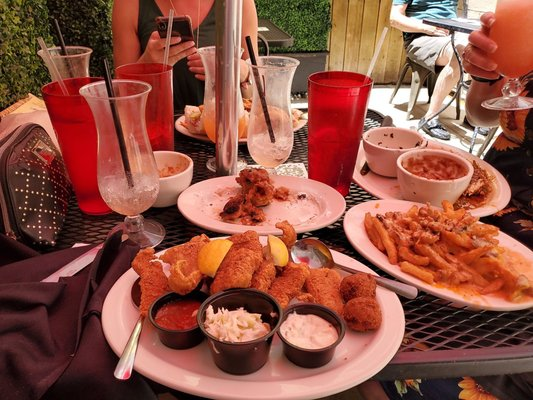pizza: (307, 70, 373, 198), (115, 61, 175, 151)
salad: (114, 260, 157, 381)
sushi: (198, 288, 281, 375), (396, 147, 474, 208), (278, 303, 346, 369), (148, 291, 208, 350), (362, 127, 428, 179), (150, 151, 194, 208)
